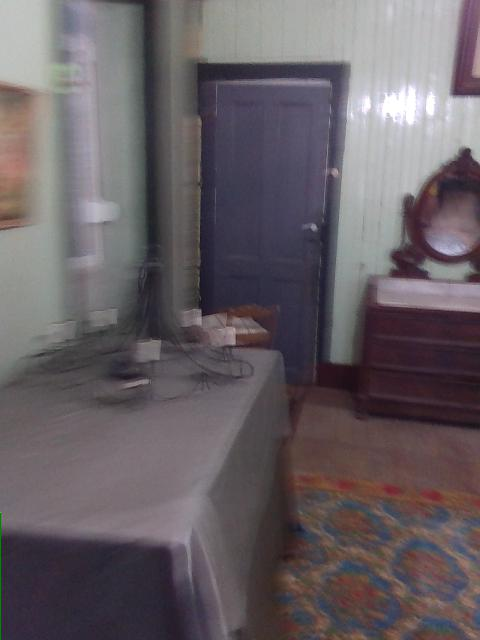door: (197, 62, 353, 389)
